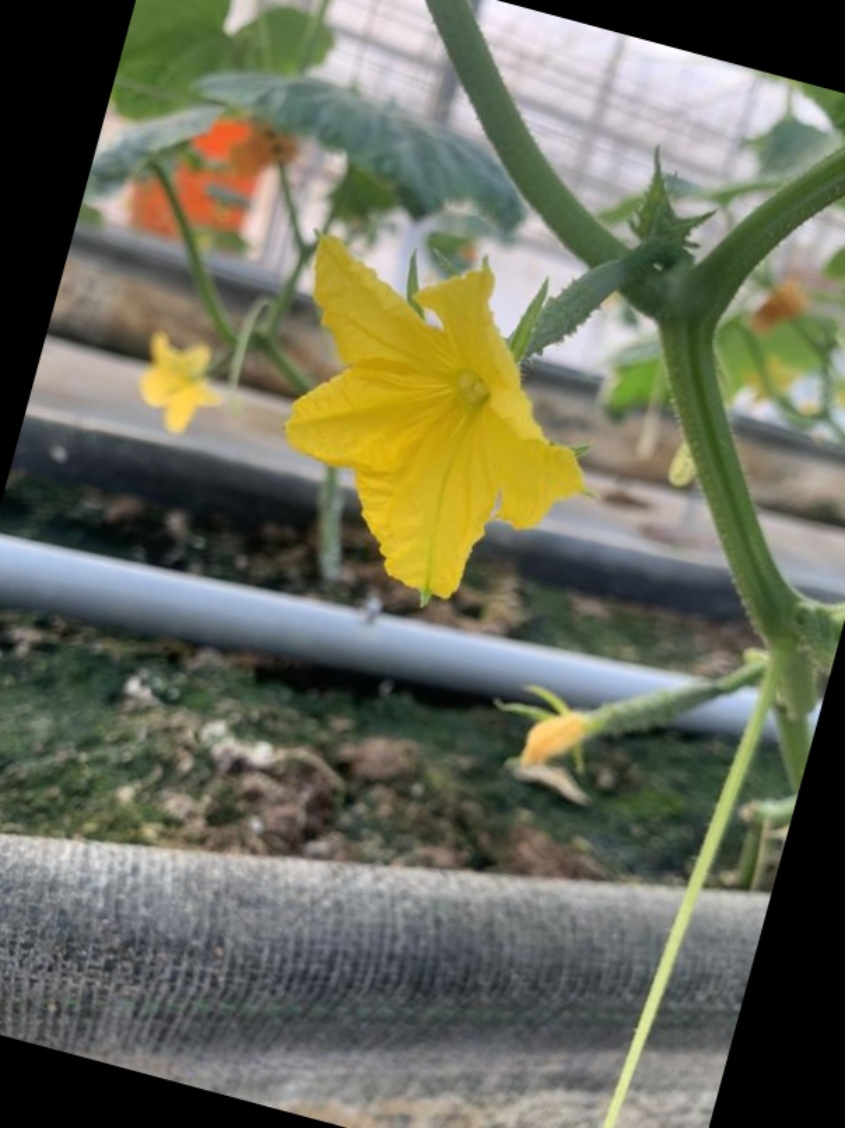mature: (259, 193, 681, 611)
